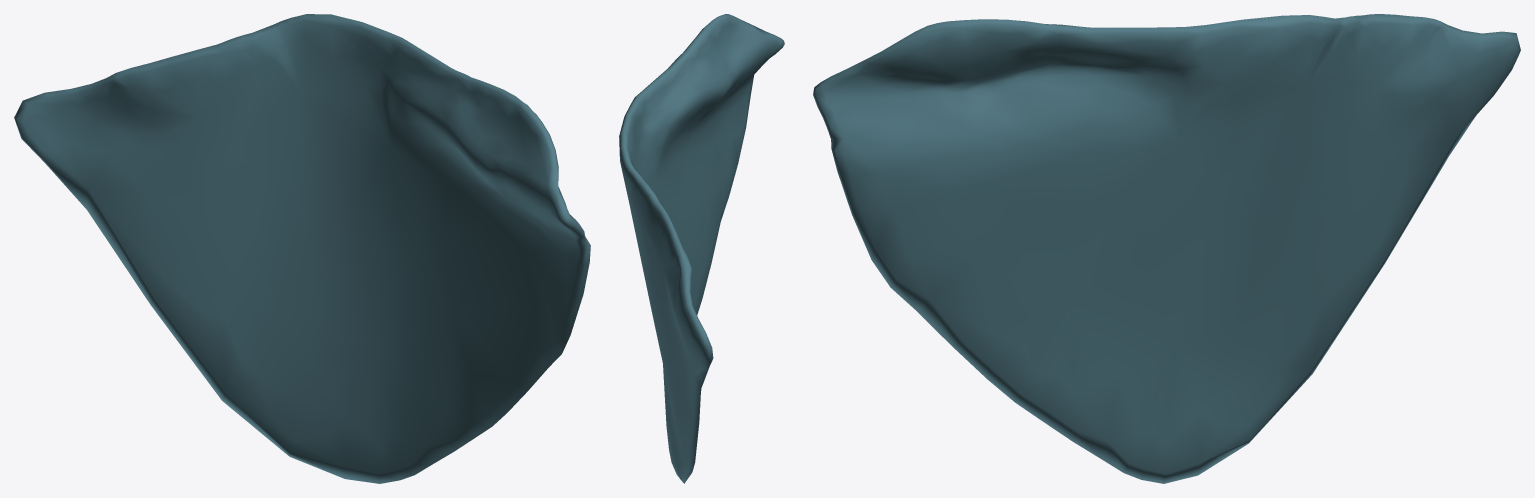
File: Teres_minor_humeral_insertion_left.glb
The picture shows the model from 3 angles, left to right: view 1: azimuth 30°, elevation 25°; view 2: azimuth 150°, elevation 25°; view 3: azimuth 270°, elevation 25°; orthographic projection. The views are drawn at different scales.
Parts seen in each view (by area): view 1: Teres_minor_muscle-Humeral_insertion.l_Generated_Mesh_From_X; view 2: Teres_minor_muscle-Humeral_insertion.l_Generated_Mesh_From_X; view 3: Teres_minor_muscle-Humeral_insertion.l_Generated_Mesh_From_X.
Part boxes in pixels (x1,y1,x2,y2): Teres_minor_muscle-Humeral_insertion.l_Generated_Mesh_From_X: (14, 14, 590, 483); Teres_minor_muscle-Humeral_insertion.l_Generated_Mesh_From_X: (619, 14, 784, 483); Teres_minor_muscle-Humeral_insertion.l_Generated_Mesh_From_X: (813, 14, 1520, 483).
Bounding box in the file's own units: 0.0112 × 0.0177 × 0.0231.
